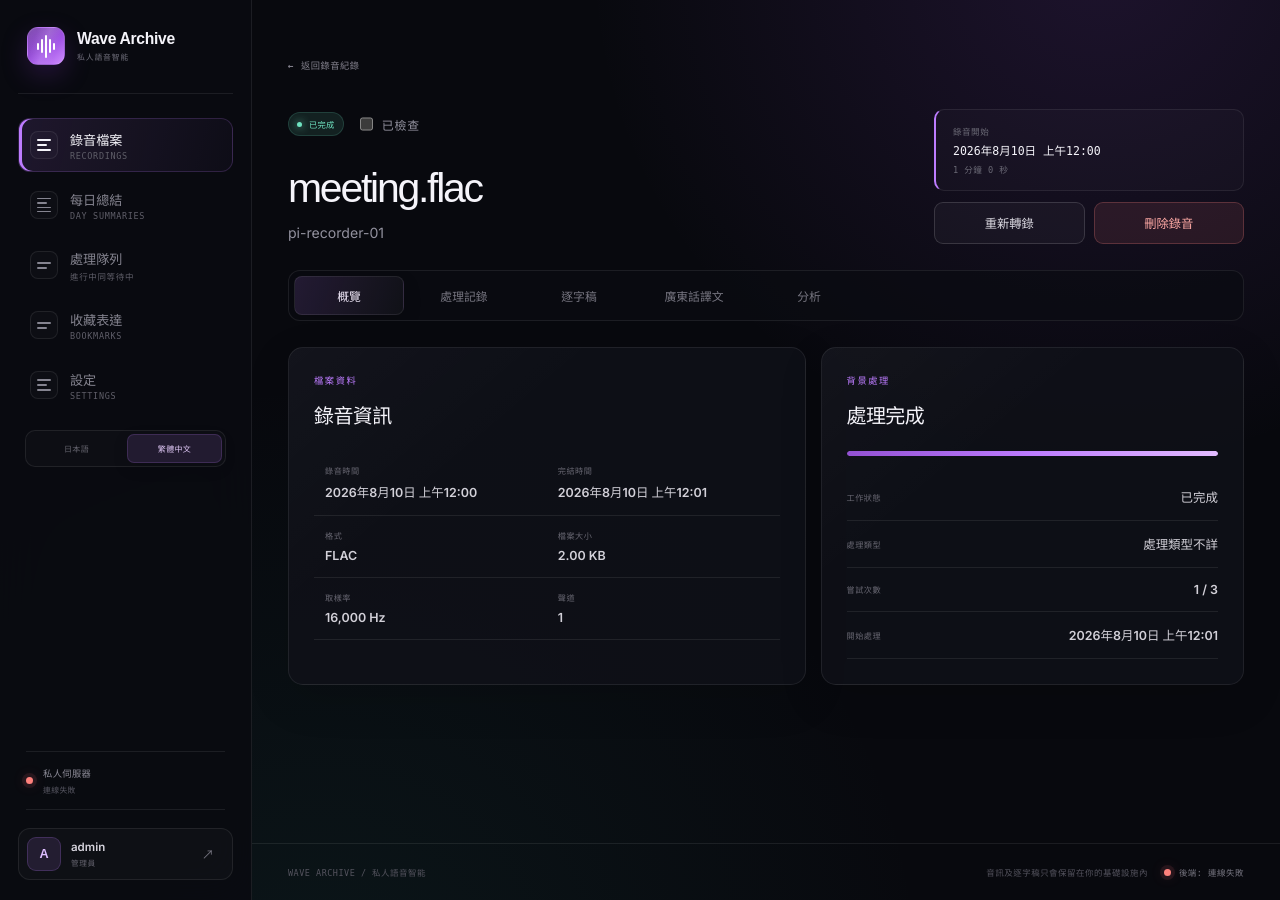
Test: recording transcript states › distinguishes a completed transcript with no speech segments
expect the heading "meeting.flac" is shown: met, box 288,168 -> 482,208
Click the tab "逐字稿" at [579, 296], box 524,276 -> 634,316
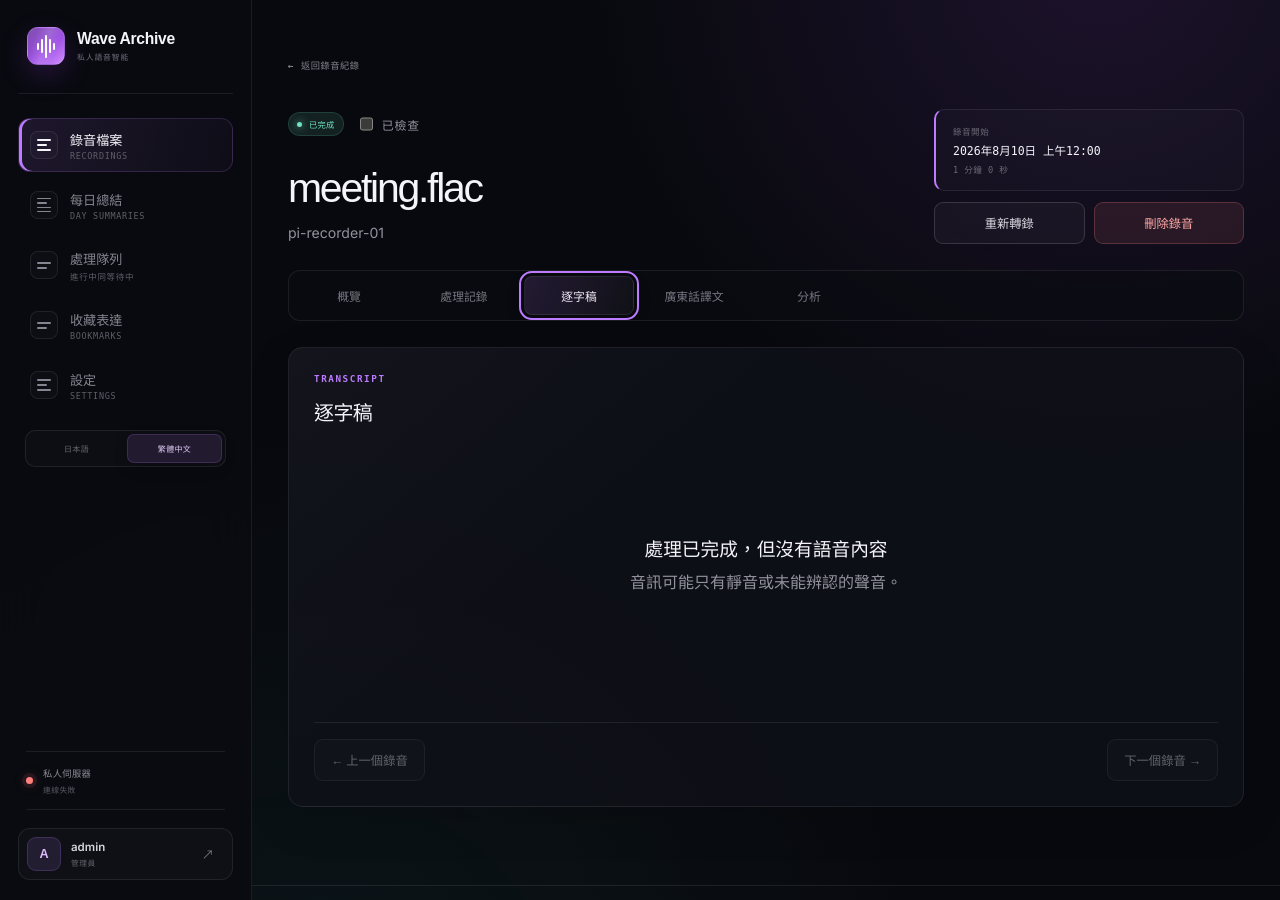
expect the heading "處理已完成，但沒有語音內容" is shown: met, box 644,534 -> 888,561
